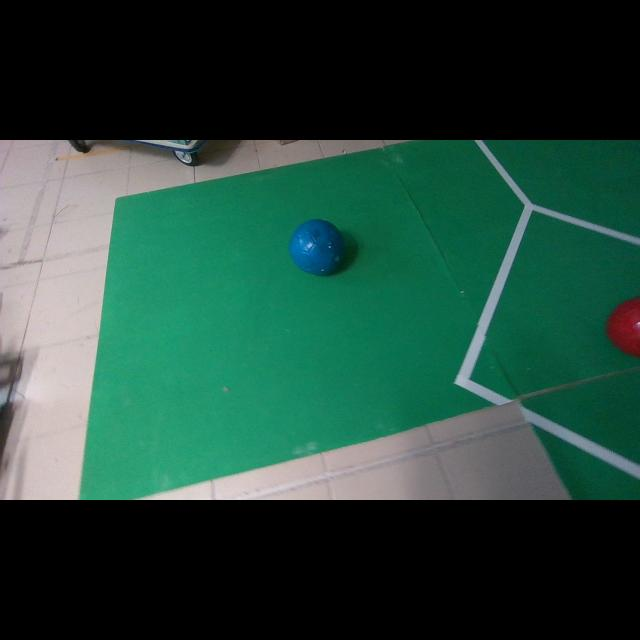B: (289, 220, 344, 275)
R: (606, 296, 640, 357)
